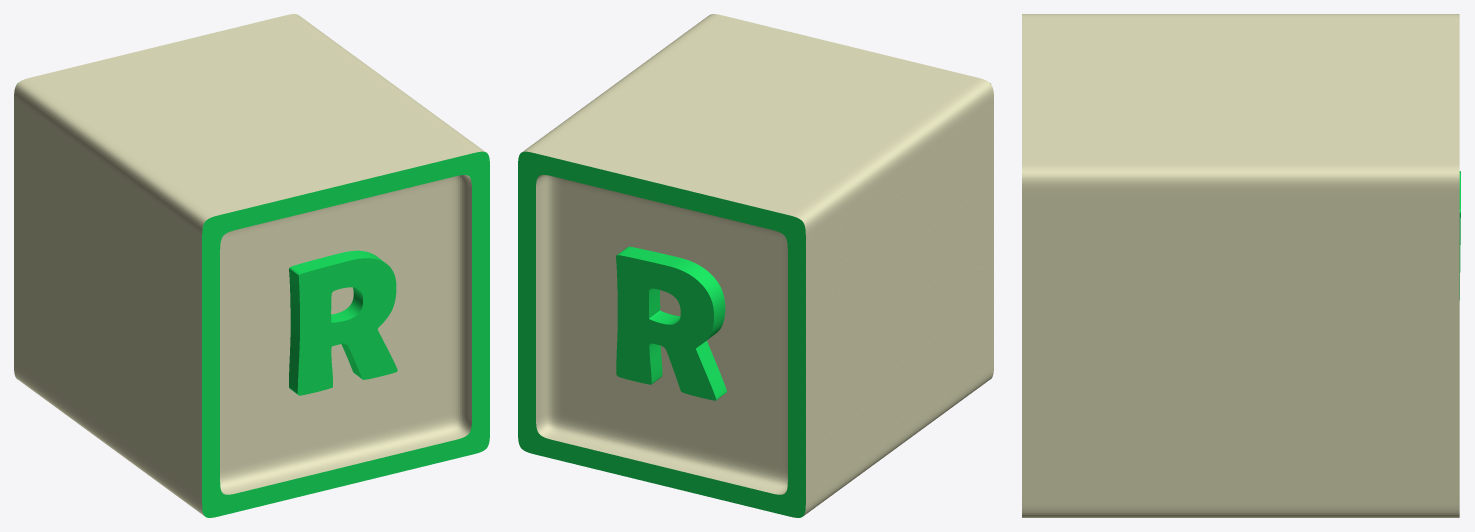
The model's file is letterrblock.fbx.
3 renders of one model, left to right at view 1: azimuth 30°, elevation 25°; view 2: azimuth 150°, elevation 25°; view 3: azimuth 270°, elevation 25°, orthographic. The views are drawn at different scales.
Parts seen in each view (by area): view 1: Cube, Cube.002, Text; view 2: Cube, Cube.001, Text.001; view 3: Cube.
Part boxes in pixels (x1,y1,x2,y2): Cube: [14, 14, 485, 515]; Cube.002: [202, 151, 489, 517]; Text: [289, 250, 397, 395]; Cube: [522, 14, 993, 515]; Cube.001: [518, 151, 805, 517]; Text.001: [616, 246, 726, 400]; Cube: [1022, 14, 1459, 517].
Size of the model in its own units: 1196 by 1196 by 1358.
